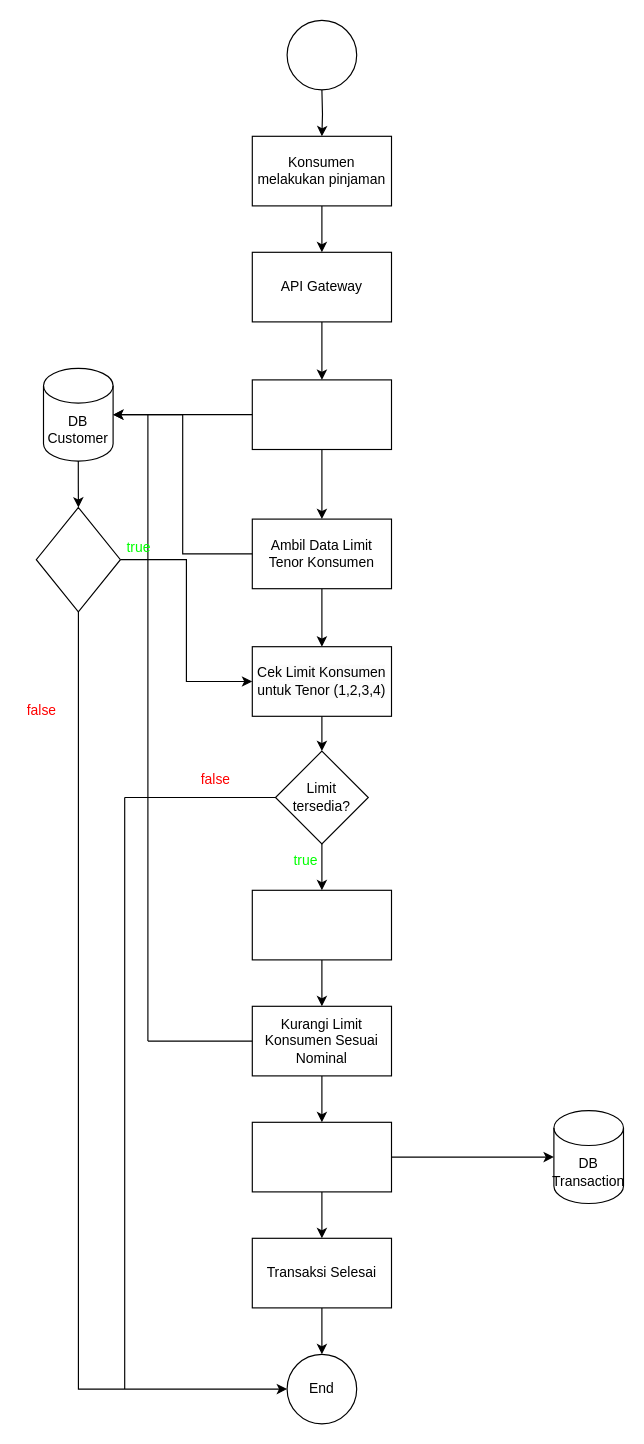
This 644x1444 diagram has some shape labels left out. Here are the shapes that lost their labels. From the top down, the box of each, then its label:
(286, 19, 357, 90): Start
(251, 379, 392, 449): Cek Data Konsumen
(35, 506, 120, 612): Data Tidak Ditemukan?
(251, 889, 392, 960): Lakukan Transaksi
(251, 1121, 392, 1192): Simpan Transaksi ke Database
